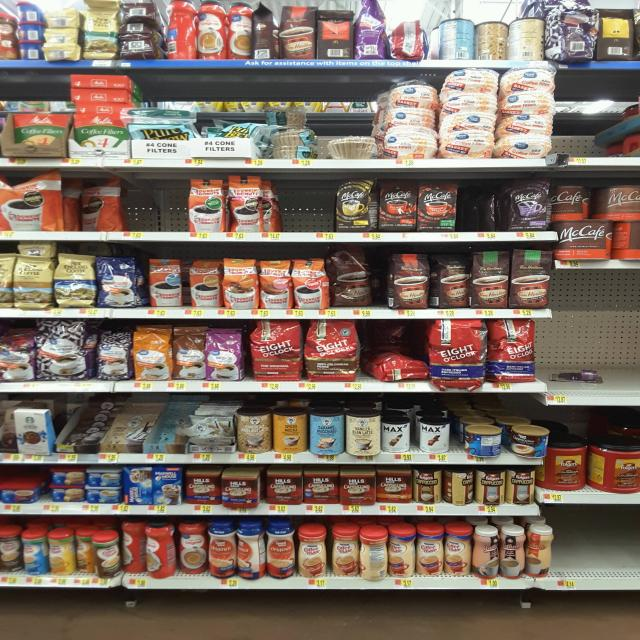void: (562, 72, 602, 166), (601, 72, 640, 166), (608, 311, 640, 405), (580, 505, 611, 592), (609, 506, 640, 592), (461, 180, 505, 240), (265, 174, 301, 242), (554, 505, 582, 590), (300, 175, 334, 241), (154, 171, 187, 239), (121, 172, 154, 240)
